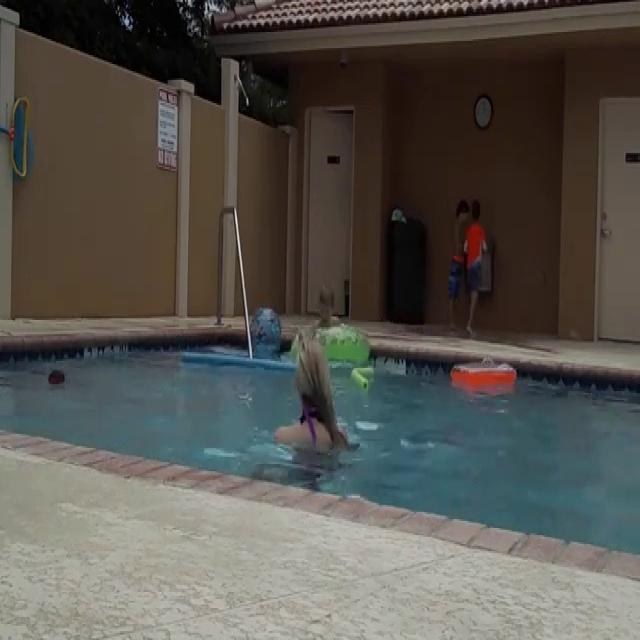adult: (277, 337, 350, 478)
child: (463, 198, 484, 336), (451, 200, 467, 333), (313, 286, 343, 336)
